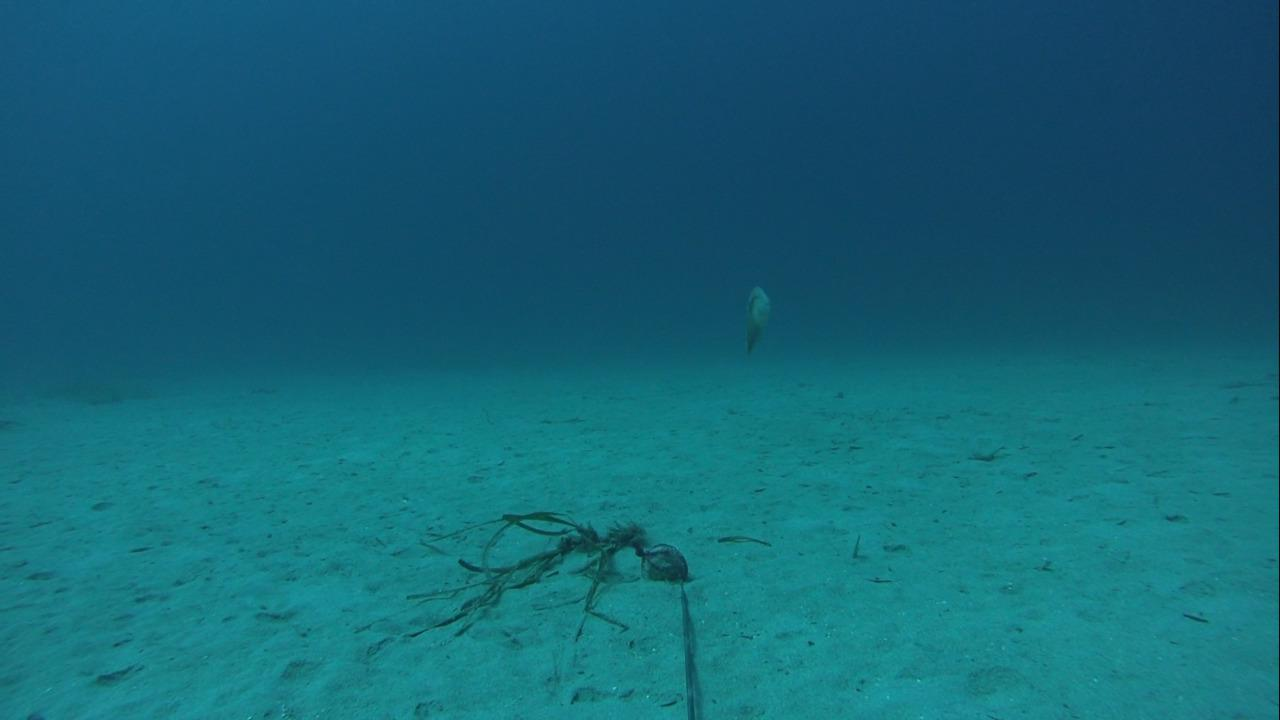raor: (733, 275, 777, 360)
